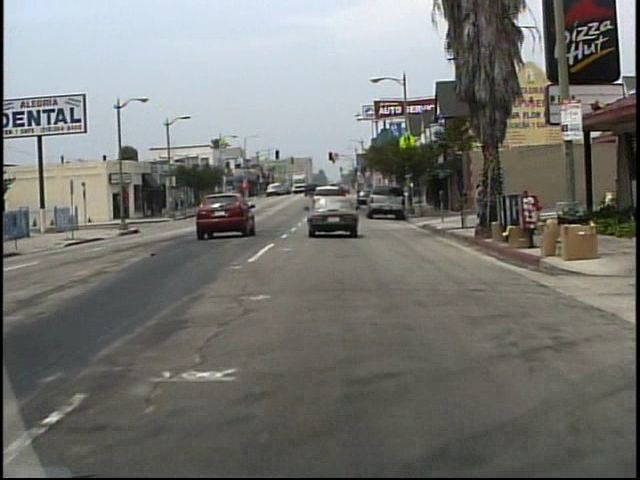person: (483, 179, 494, 215), (474, 183, 483, 212)
